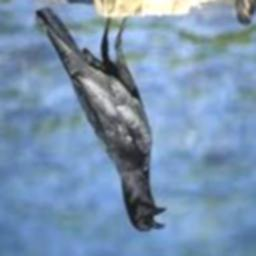Crow: (35, 6, 165, 232)
